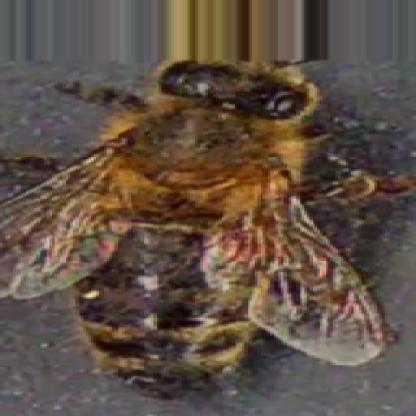bee: (51, 60, 333, 379)
